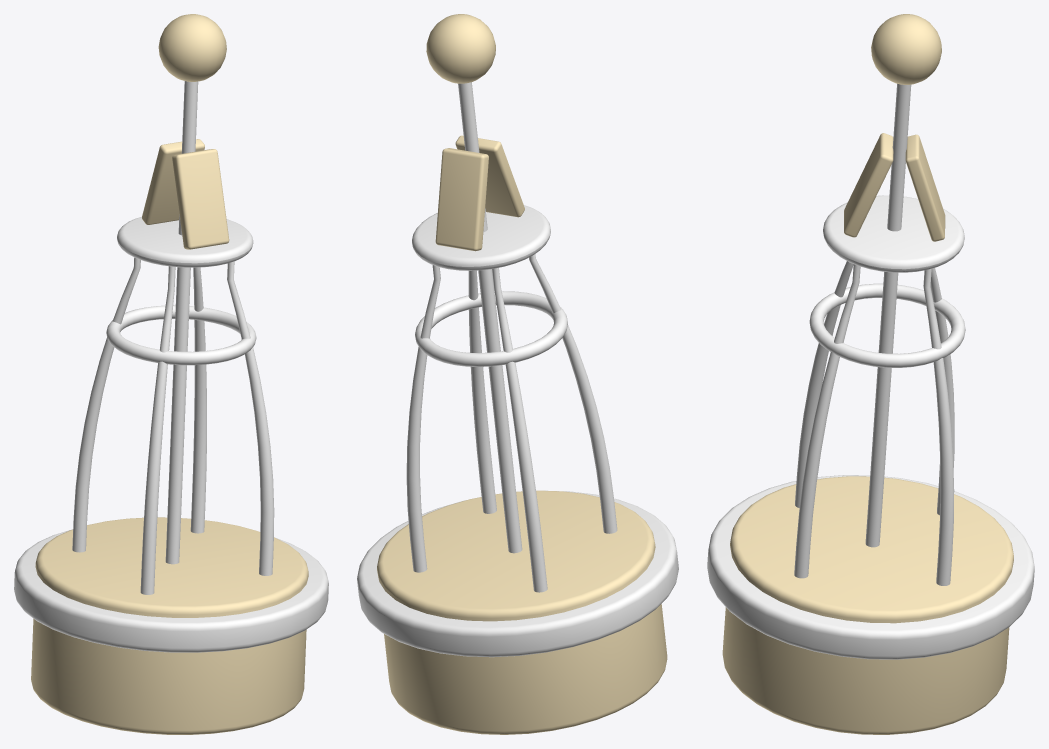
File: buoy.fbx
3 views of the same model, side by side, from view 1: azimuth 30°, elevation 25°; view 2: azimuth 150°, elevation 25°; view 3: azimuth 270°, elevation 25° (orthographic). The views are drawn at different scales.
Parts seen in each view (by area): view 1: q.001, w, qq, qqq, qqw, ww, w.001, q, wqw; view 2: q.001, qq, w, ww, qqq, wqw, w.001, q, qqw; view 3: q.001, qq, w, ww, qqq, w.001, q, qqw, wqw.
Boxes of the visible parts, x1=… form: q.001: x1=31, y1=517, x2=308, y2=734; w: x1=72, y1=257, x2=274, y2=594; qq: x1=14, y1=529, x2=328, y2=652; qqq: x1=165, y1=81, x2=198, y2=564; qqw: x1=172, y1=149, x2=229, y2=249; ww: x1=117, y1=217, x2=253, y2=267; w.001: x1=106, y1=305, x2=256, y2=365; q: x1=158, y1=14, x2=226, y2=81; wqw: x1=142, y1=139, x2=204, y2=224; q.001: x1=377, y1=490, x2=667, y2=734; qq: x1=357, y1=490, x2=678, y2=657; w: x1=406, y1=254, x2=617, y2=592; ww: x1=412, y1=205, x2=550, y2=270; qqq: x1=458, y1=82, x2=522, y2=553; wqw: x1=435, y1=148, x2=488, y2=251; w.001: x1=415, y1=291, x2=567, y2=366; q: x1=426, y1=14, x2=495, y2=83; qqw: x1=455, y1=135, x2=524, y2=217; q.001: x1=722, y1=476, x2=1013, y2=734; qq: x1=707, y1=475, x2=1034, y2=659; w: x1=794, y1=261, x2=954, y2=585; ww: x1=823, y1=195, x2=964, y2=272; qqq: x1=865, y1=83, x2=911, y2=547; w.001: x1=809, y1=283, x2=965, y2=367; q: x1=871, y1=14, x2=941, y2=84; qqw: x1=844, y1=133, x2=893, y2=237; wqw: x1=905, y1=134, x2=945, y2=241.
Size of the model in its own units: 46.07 by 106 by 46.07.
